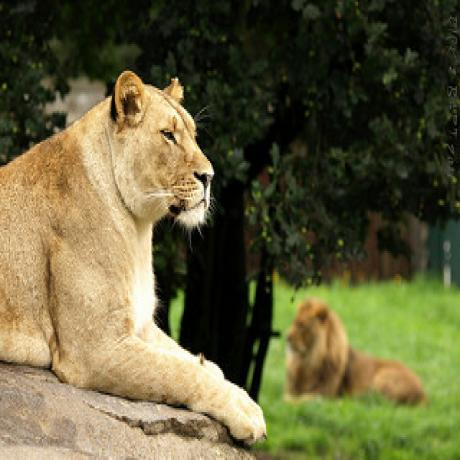Lion: (0, 68, 264, 448), (283, 294, 425, 410)
